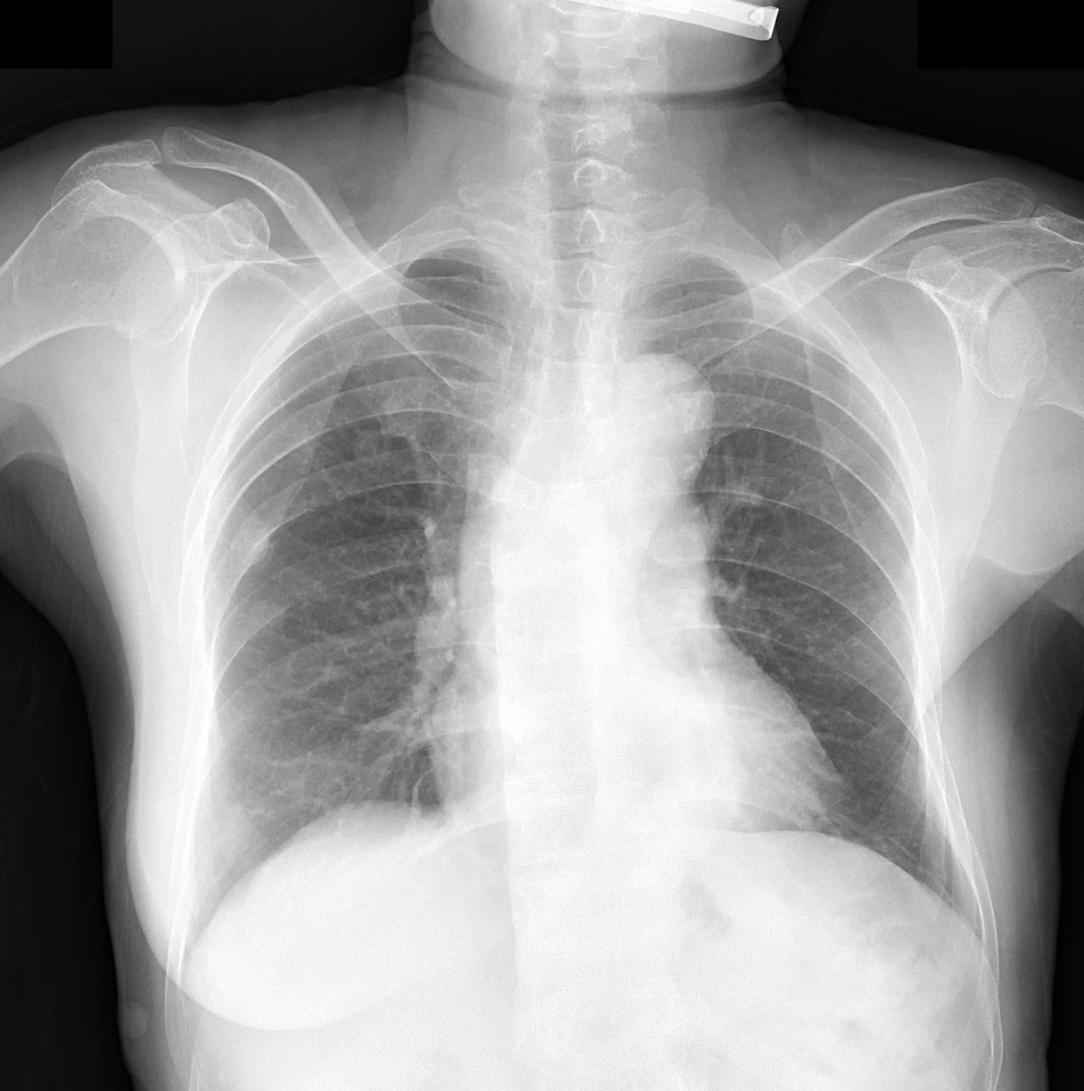Aortic enlargement: (593, 349, 716, 498)
Cardiomegaly: (419, 690, 839, 841)
